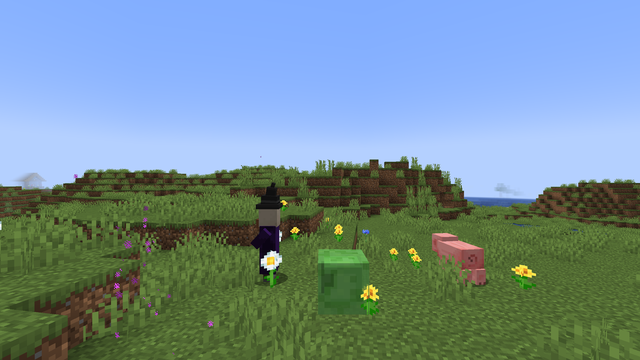cochons: (436, 239, 484, 284)
slimes: (312, 246, 365, 316)
sorcieres: (254, 203, 283, 282)
